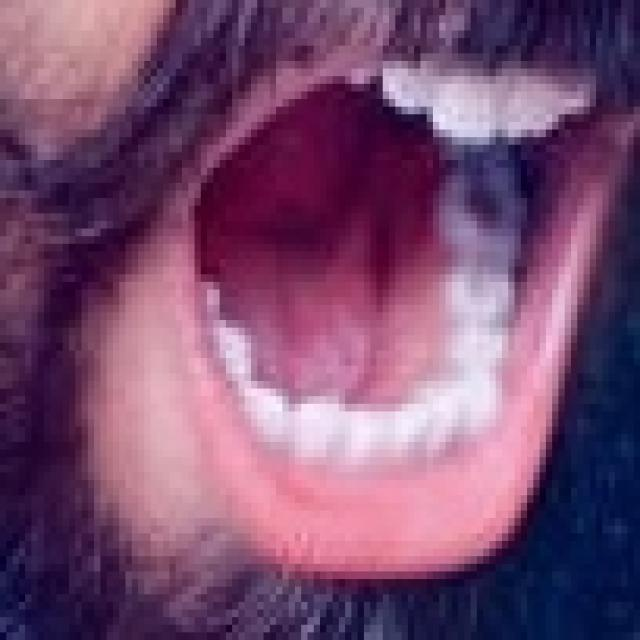open-mouth: (169, 46, 634, 580)
